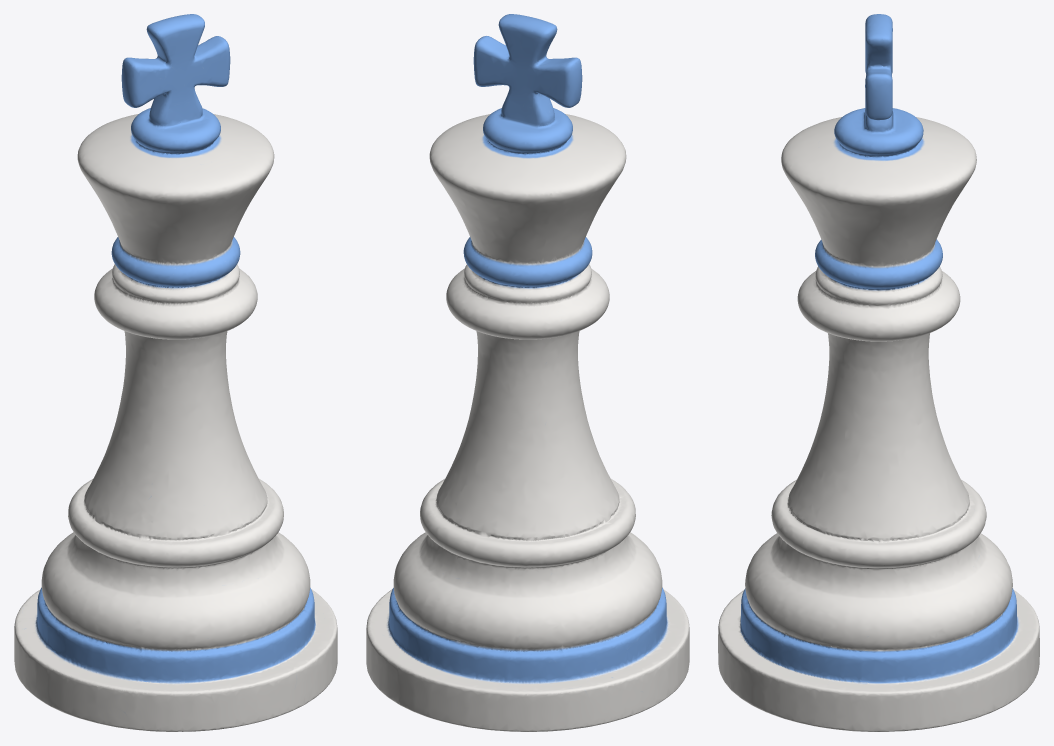
File: king_new.glb
3 views of the same model, side by side, from view 1: azimuth 30°, elevation 25°; view 2: azimuth 150°, elevation 25°; view 3: azimuth 270°, elevation 25° (orthographic).
Bounding box in the file's own units: 0.8622 × 1.9 × 0.8622.
1 material, 1 textured.
